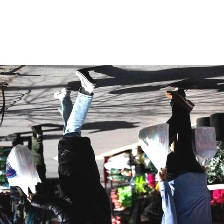plastic_bag: (3, 142, 45, 198), (134, 122, 174, 174), (187, 124, 219, 168)
